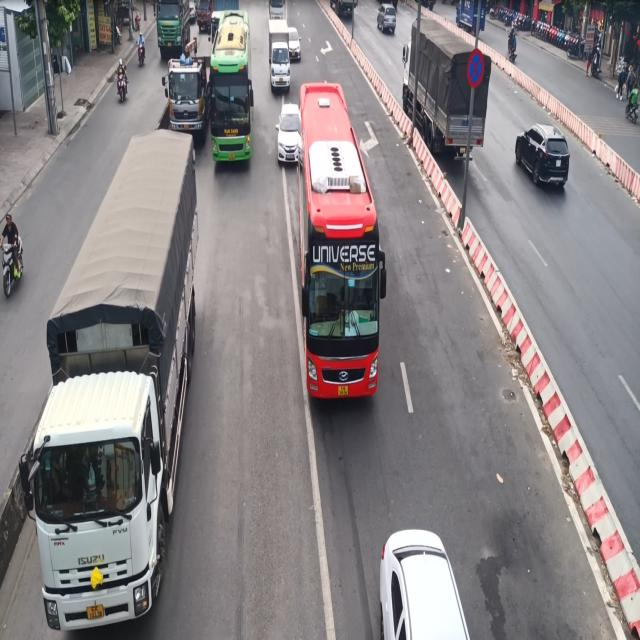bus: (294, 86, 388, 417), (212, 12, 255, 174)
motor: (0, 204, 24, 307), (114, 53, 134, 115)
truck: (31, 126, 210, 640), (267, 21, 293, 90)
